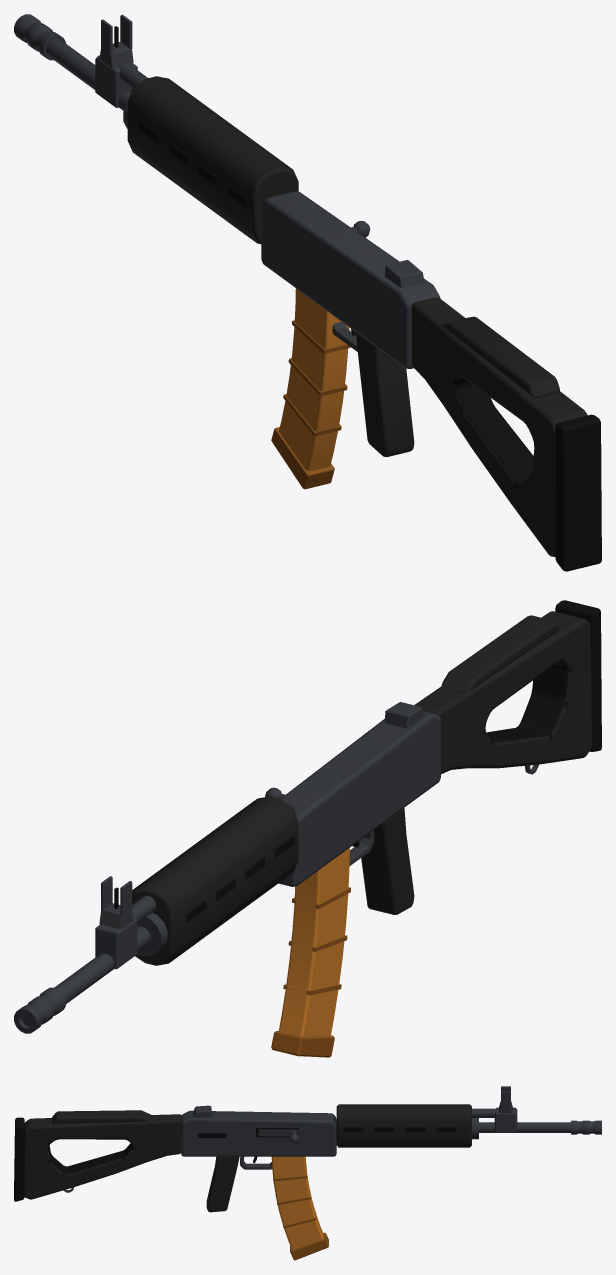
Rendered from rifle.glb.
3 views of the same model, one above another, from view 1: azimuth 30°, elevation 25°; view 2: azimuth 150°, elevation 25°; view 3: azimuth 270°, elevation 25° (orthographic). The views are drawn at different scales.
Parts seen in each view (by area): view 1: rifle_body, magazine; view 2: rifle_body, magazine; view 3: rifle_body, magazine, bolt.
Part boxes in pixels (x1,y1,x2,y2): rifle_body: (14, 14, 601, 571); magazine: (271, 288, 350, 489); rifle_body: (14, 600, 601, 1033); magazine: (271, 847, 350, 1057); rifle_body: (14, 1086, 601, 1212); magazine: (271, 1156, 328, 1260); bolt: (258, 1129, 298, 1143).
Bounding box in the file's own units: 0.0814 × 0.3284 × 1.04.
